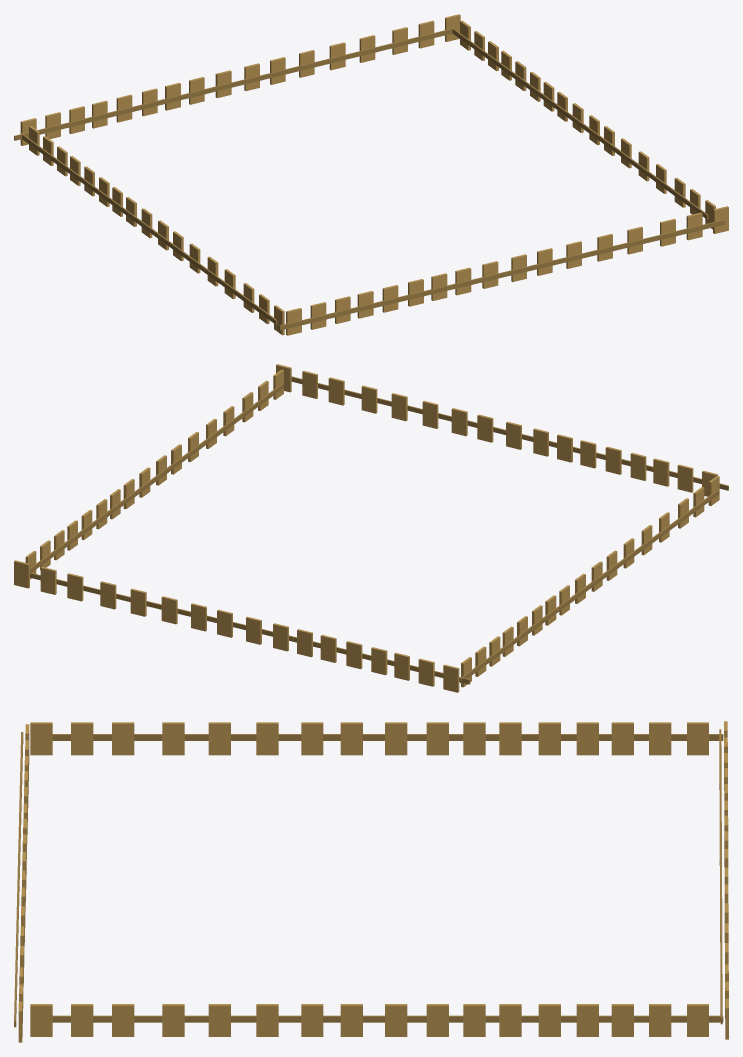
Rendered from cerca.gltf.
3 views of the same model, one above another, from view 1: azimuth 30°, elevation 25°; view 2: azimuth 150°, elevation 25°; view 3: azimuth 270°, elevation 25° (orthographic). The views are drawn at different scales.
Visible parts, largest first — view 1: linea (×4); view 2: linea (×4); view 3: linea (×4), Box 4 (×2), Box 12 (×2), Box 17 (×2), Box 7 (×2), Box 6 (×2), Box 11 (×2), Box 13 (×2), Box 16 (×2), Box 2 (×2), Box 5 (×2), Box 8 (×2) (+6 smaller).
Boxes of the visible parts, bbox=[...] form: linea (×4): bbox=[14, 27, 724, 330]; linea (×4): bbox=[30, 376, 728, 684]; linea (×4): bbox=[14, 729, 723, 1027]; Box 4 (×2): bbox=[256, 722, 278, 1036]; Box 12 (×2): bbox=[162, 722, 184, 1036]; Box 17 (×2): bbox=[30, 722, 52, 1036]; Box 7 (×2): bbox=[463, 722, 485, 1036]; Box 6 (×2): bbox=[499, 722, 521, 1036]; Box 11 (×2): bbox=[208, 722, 230, 1036]; Box 13 (×2): bbox=[112, 722, 134, 1036]; Box 16 (×2): bbox=[71, 722, 93, 1036]; Box 2 (×2): bbox=[340, 722, 362, 1036]; Box 5 (×2): bbox=[426, 722, 448, 1036]; Box 8 (×2): bbox=[538, 722, 560, 1036].
Size of the model in its own units: 29.67 by 1.47 by 30.31.
